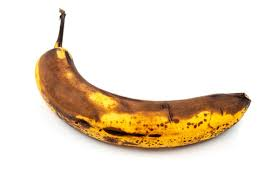looks_defective: (23, 27, 259, 192)
